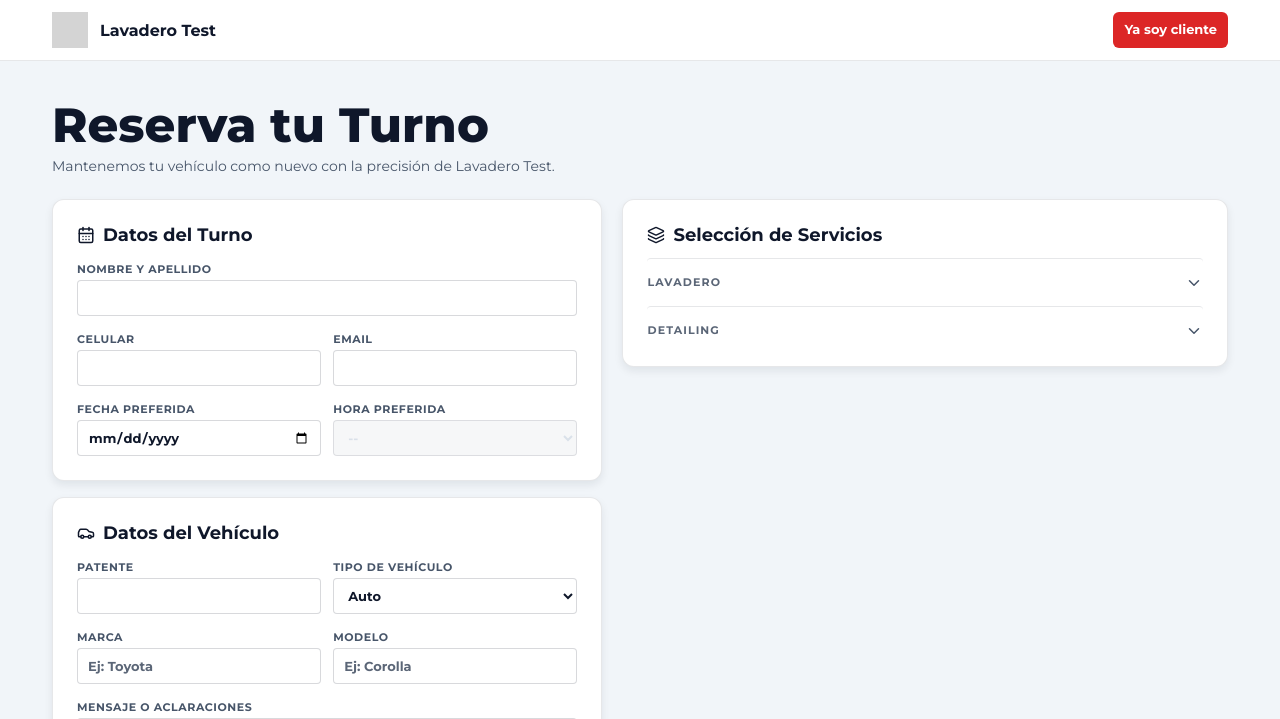
Test case: las descripciones largas se truncan con "Ver mas" y se expanden
Click the button "Lavadero" at (684, 282), box [648,258,1203,294]
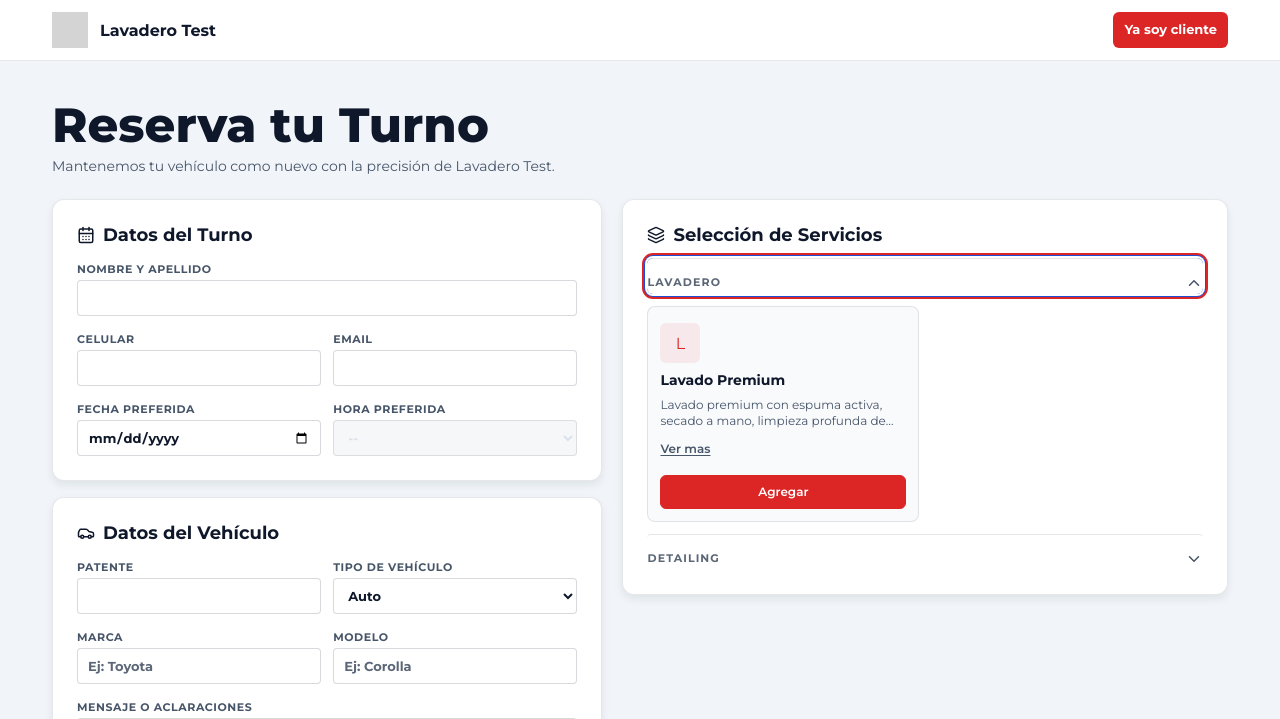
Click the button "Ver mas" at (686, 449), box [660,431,710,467]
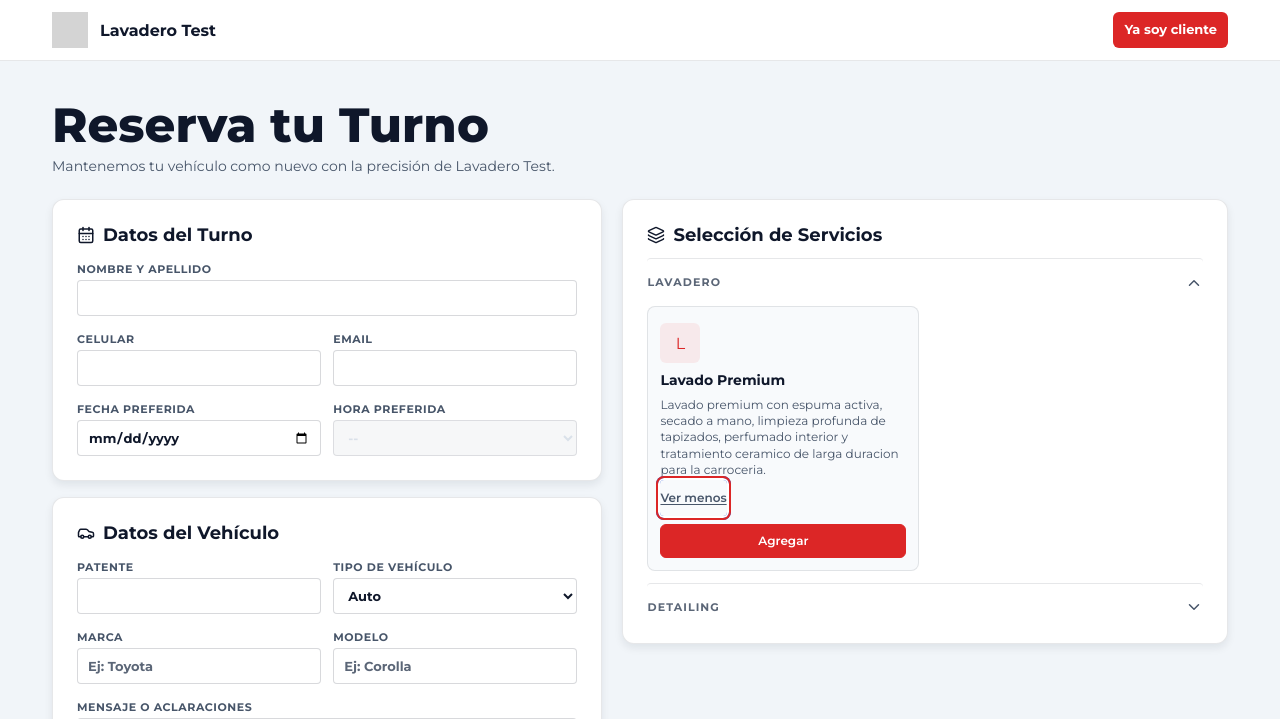
Result: the button "Ver menos" is shown at [660,480,727,516]
